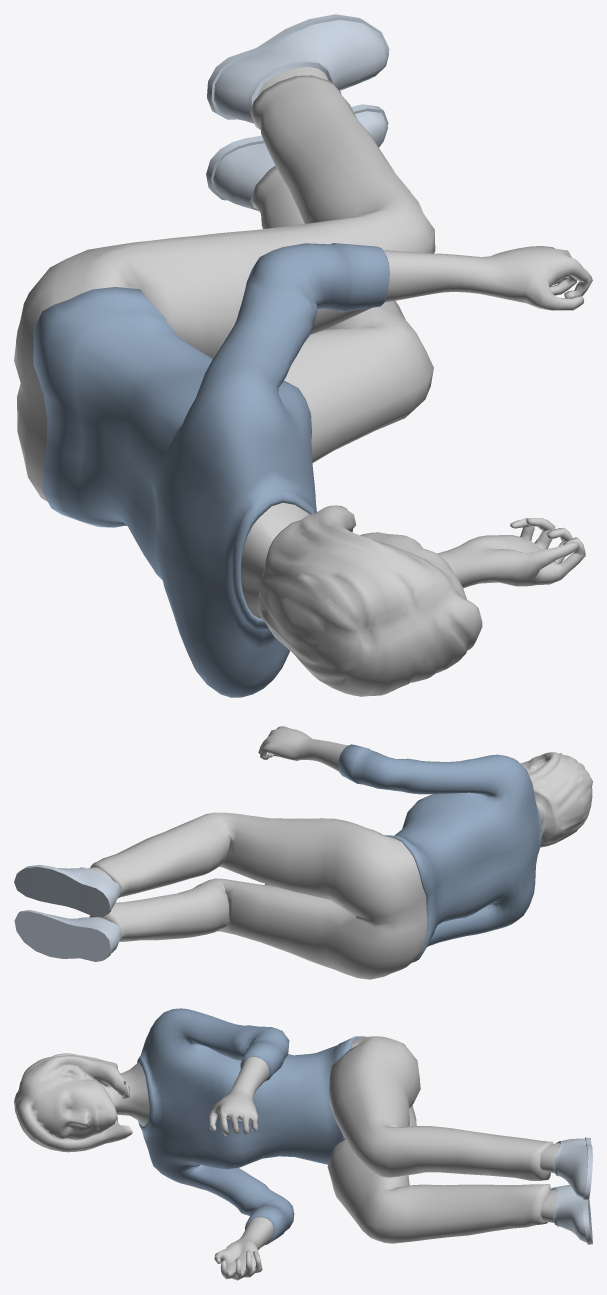
Rendered from Asian_Female.obj.
3 renders of one model, top to bottom at view 1: azimuth 30°, elevation 25°; view 2: azimuth 150°, elevation 25°; view 3: azimuth 270°, elevation 25°, orthographic. The views are drawn at different scales.
Visible parts, largest first — view 1: 2_Axle_Cab_Over_Female_Asian; view 2: 2_Axle_Cab_Over_Female_Asian; view 3: 2_Axle_Cab_Over_Female_Asian.
Boxes of the visible parts, x1,y1,x2,y2 form: 2_Axle_Cab_Over_Female_Asian: (14, 14, 592, 697); 2_Axle_Cab_Over_Female_Asian: (14, 726, 592, 979); 2_Axle_Cab_Over_Female_Asian: (14, 1008, 592, 1280).
Bounding box in the file's own units: 0.889 × 0.5441 × 1.42.
